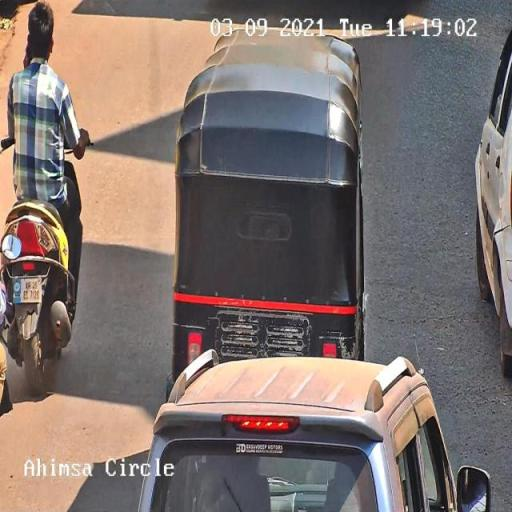using mobile: (22, 32, 32, 70)
